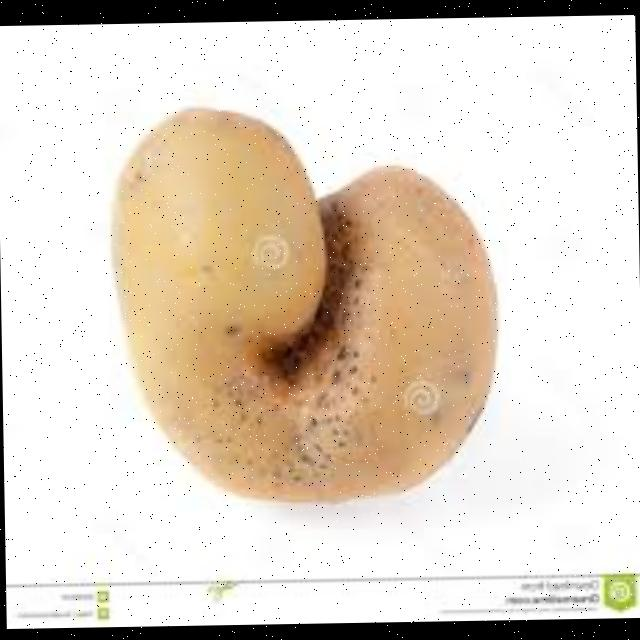Damaged potato: (96, 70, 522, 514), (103, 99, 494, 510)
